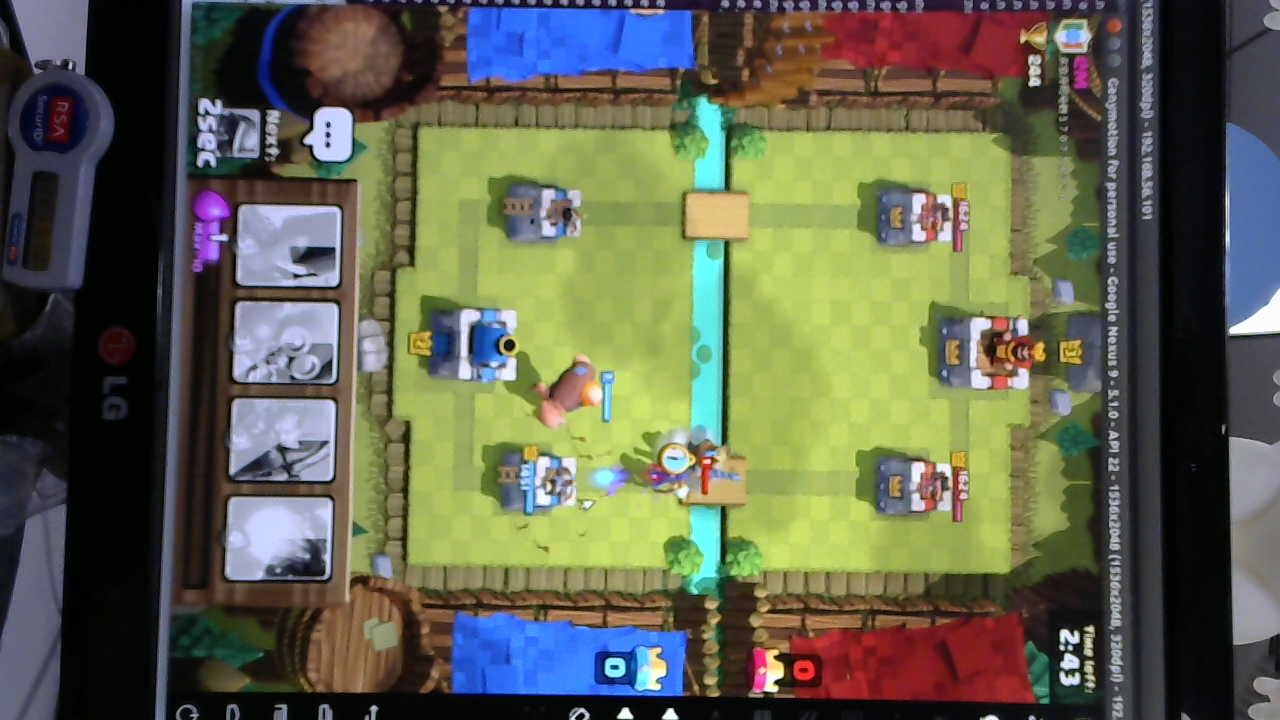prince: (656, 441, 744, 480)
